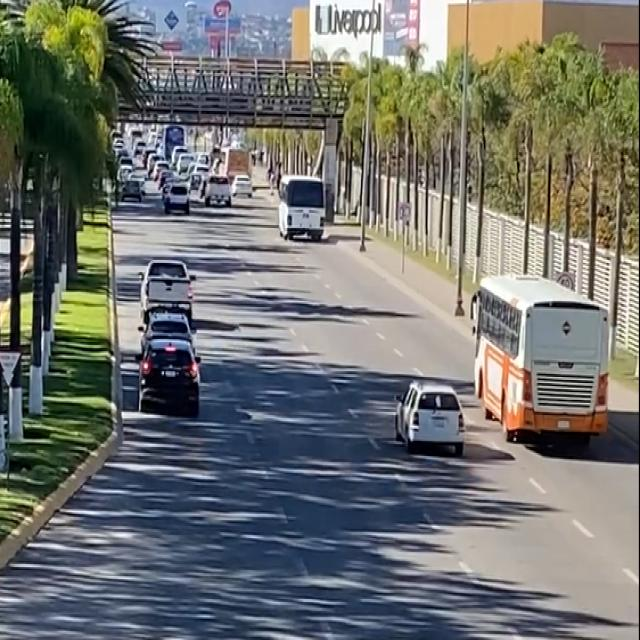Auto: (136, 338, 202, 421), (396, 381, 466, 455), (137, 259, 198, 322), (138, 312, 197, 350), (206, 177, 234, 209)
Autobus: (469, 274, 608, 455), (278, 176, 326, 241)
